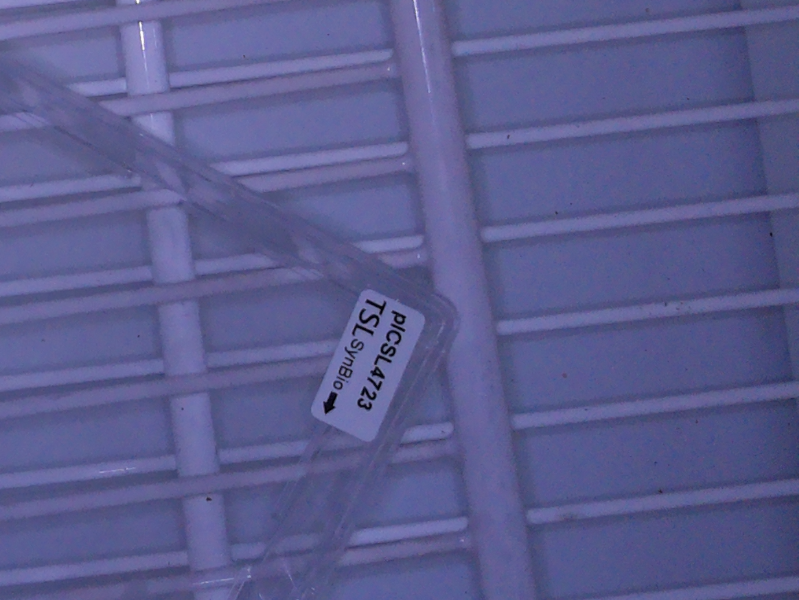plate: (1, 55, 458, 600)
